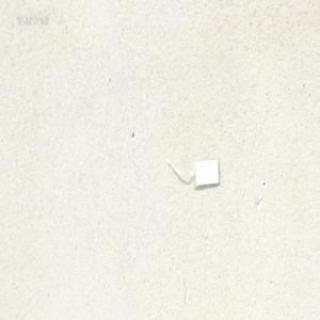LuggageTagtrack_idkeyframe: (165, 156, 220, 187)
